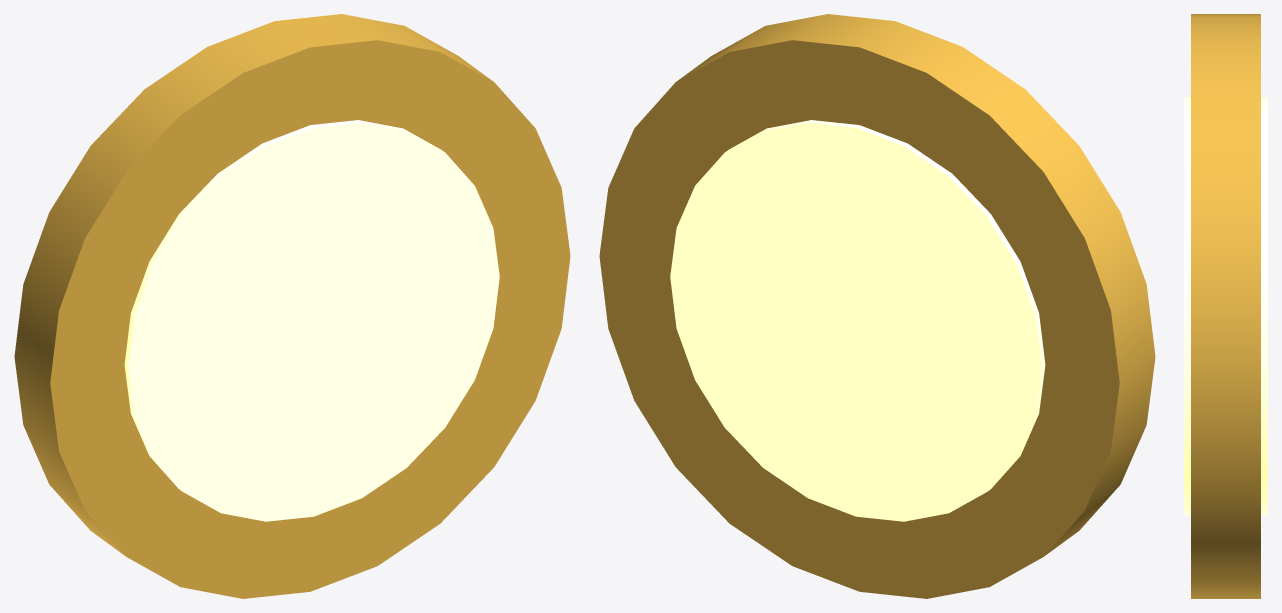
The picture shows the model from 3 angles, left to right: view 1: azimuth 30°, elevation 25°; view 2: azimuth 150°, elevation 25°; view 3: azimuth 270°, elevation 25°; orthographic projection. The views are drawn at different scales.
Visible parts, largest first — view 1: arcade_coin.lod0; view 2: arcade_coin.lod0; view 3: arcade_coin.lod0.
Boxes of the visible parts, x1,y1,x2,y2 form: arcade_coin.lod0: [14, 14, 570, 598]; arcade_coin.lod0: [599, 14, 1155, 598]; arcade_coin.lod0: [1184, 14, 1267, 598].
Size of the model in its own units: 0.84 by 0.84 by 0.12.
